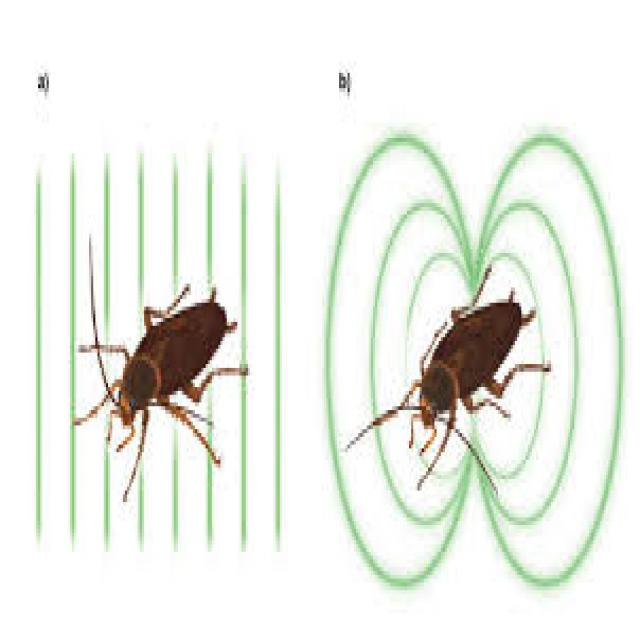Cockroach: (54, 262, 260, 478), (366, 277, 566, 459)
